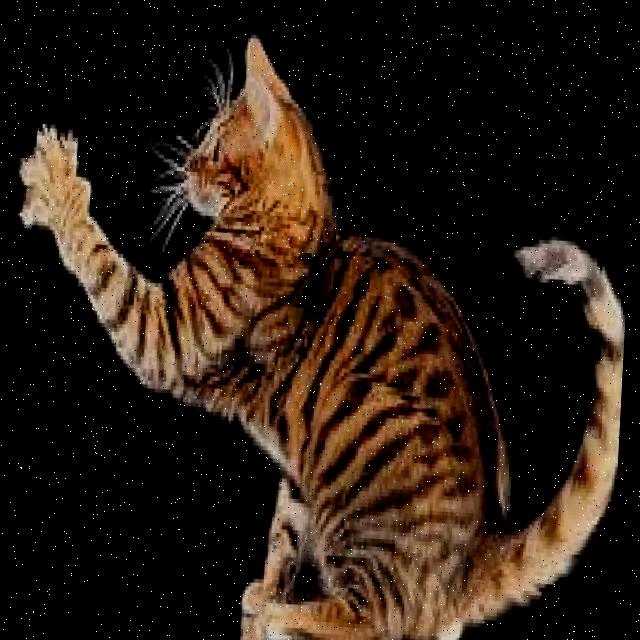Toyger: (0, 13, 640, 640)
